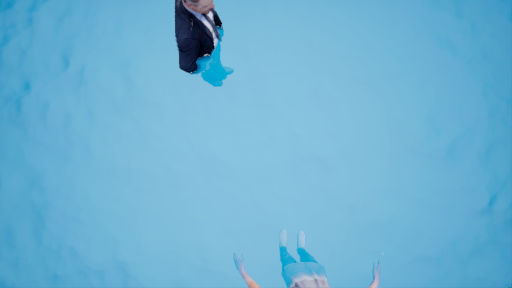person: (169, 1, 241, 91)
